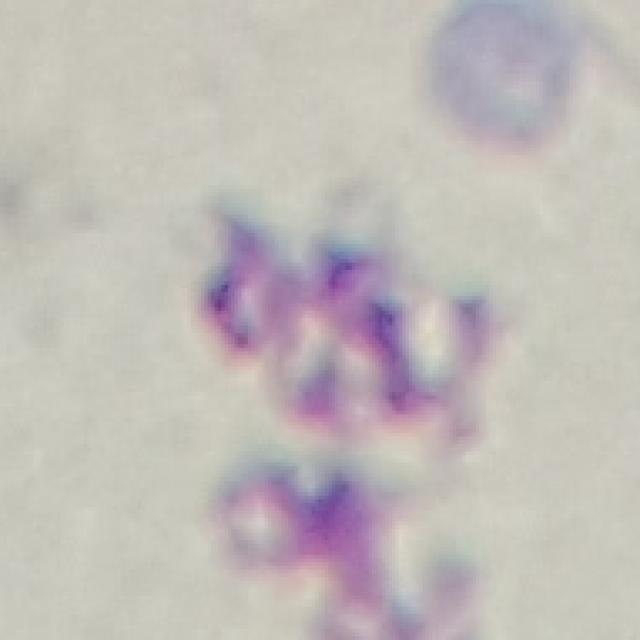non-sperm: (194, 211, 489, 640)
